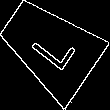L_NW: (22, 20, 77, 74)
